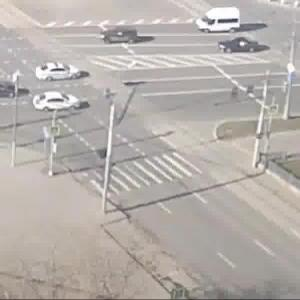car: (194, 4, 245, 34), (34, 92, 89, 113), (34, 62, 82, 81), (101, 26, 140, 45), (220, 39, 260, 56), (1, 87, 18, 100)
